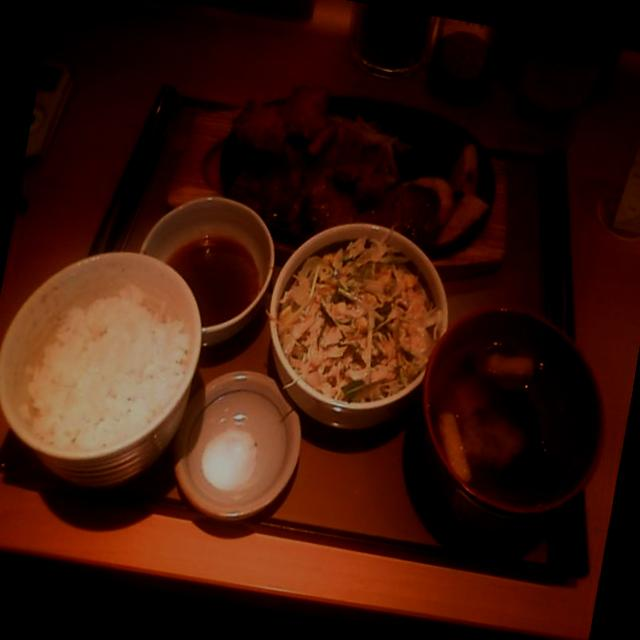Rice: (0, 218, 219, 506)
